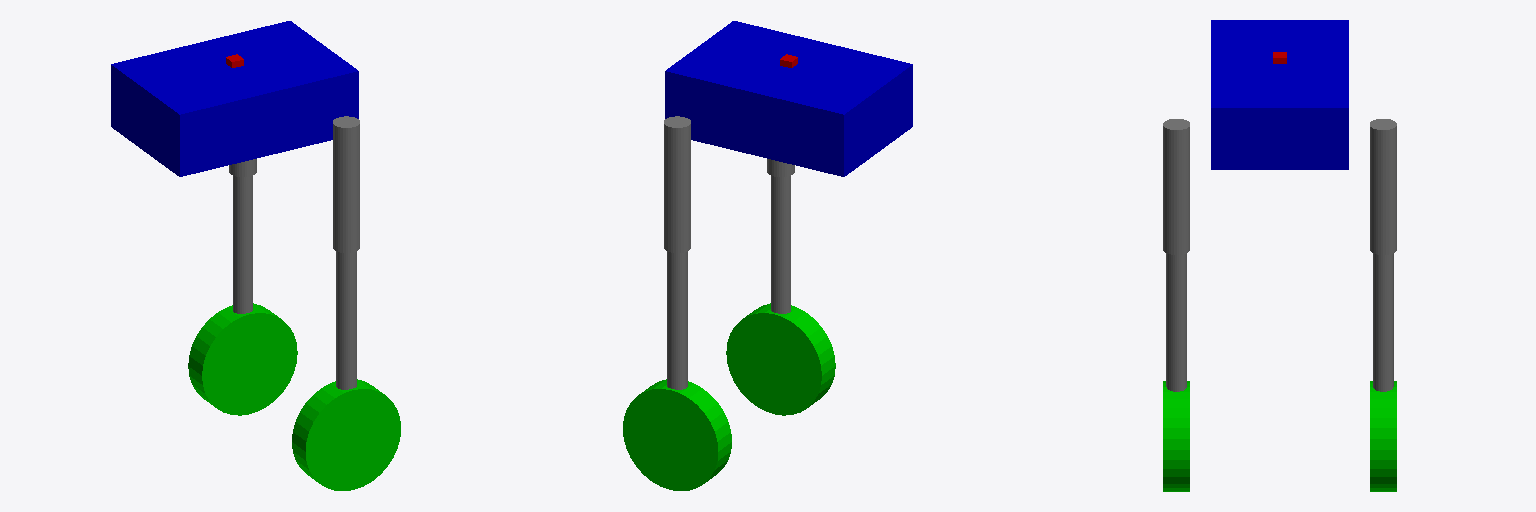
robot.urdf — wheel_legged_robot:
<?xml version="1.0"?>
<robot name="wheel_legged_robot">

  <!-- 材料定义 -->
  <material name="blue">
    <color rgba="0.0 0.0 0.8 1.0"/>
  </material>
  
  <material name="red">
    <color rgba="0.8 0.0 0.0 1.0"/>
  </material>
  
  <material name="green">
    <color rgba="0.0 0.8 0.0 1.0"/>
  </material>
  
  <material name="grey">
    <color rgba="0.5 0.5 0.5 1.0"/>
  </material>

  <!-- 基座链接 -->
  <link name="base_link">
    <visual>
      <origin xyz="0 0 0" rpy="0 0 0"/>
      <geometry>
        <box size="0.3 0.2 0.1"/>
      </geometry>
      <material name="blue"/>
    </visual>
    
    <collision>
      <origin xyz="0 0 0" rpy="0 0 0"/>
      <geometry>
        <box size="0.3 0.2 0.1"/>
      </geometry>
    </collision>
    
    <inertial>
      <origin xyz="0 0 0" rpy="0 0 0"/>
      <mass value="2.0"/>
      <inertia ixx="0.02" ixy="0.0" ixz="0.0" 
               iyy="0.05" iyz="0.0" 
               izz="0.06"/>
    </inertial>
  </link>

  <!-- IMU链接 -->
  <link name="imu_link">
    <visual>
      <origin xyz="0 0 0" rpy="0 0 0"/>
      <geometry>
        <box size="0.02 0.02 0.01"/>
      </geometry>
      <material name="red"/>
    </visual>
    
    <inertial>
      <origin xyz="0 0 0" rpy="0 0 0"/>
      <mass value="0.01"/>
      <inertia ixx="0.0001" ixy="0.0" ixz="0.0" 
               iyy="0.0001" iyz="0.0" 
               izz="0.0001"/>
    </inertial>
  </link>

  <!-- IMU关节 -->
  <joint name="imu_joint" type="fixed">
    <parent link="base_link"/>
    <child link="imu_link"/>
    <origin xyz="0 0 0.06" rpy="0 0 0"/>
  </joint>

  <!-- 左前腿第一段 -->
  <link name="lf0_link">
    <visual>
      <origin xyz="0 0 -0.1" rpy="0 0 0"/>
      <geometry>
        <cylinder radius="0.02" length="0.2"/>
      </geometry>
      <material name="grey"/>
    </visual>
    
    <collision>
      <origin xyz="0 0 -0.1" rpy="0 0 0"/>
      <geometry>
        <cylinder radius="0.02" length="0.2"/>
      </geometry>
    </collision>
    
    <inertial>
      <origin xyz="0 0 -0.1" rpy="0 0 0"/>
      <mass value="0.3"/>
      <inertia ixx="0.001" ixy="0.0" ixz="0.0" 
               iyy="0.001" iyz="0.0" 
               izz="0.0001"/>
    </inertial>
  </link>

  <!-- 左前腿第一关节 -->
  <joint name="lf0_Joint" type="revolute">
    <parent link="base_link"/>
    <child link="lf0_link"/>
    <origin xyz="0.1 0.15 0" rpy="0 0 0"/>
    <axis xyz="1 0 0"/>
    <limit lower="-0.3363" upper="1.3479" effort="30.0" velocity="10.0"/>
    <dynamics damping="0.1" friction="0.1"/>
  </joint>

  <!-- 左前腿第二段 -->
  <link name="lf1_link">
    <visual>
      <origin xyz="0 0 -0.15" rpy="0 0 0"/>
      <geometry>
        <cylinder radius="0.015" length="0.3"/>
      </geometry>
      <material name="grey"/>
    </visual>
    
    <collision>
      <origin xyz="0 0 -0.15" rpy="0 0 0"/>
      <geometry>
        <cylinder radius="0.015" length="0.3"/>
      </geometry>
    </collision>
    
    <inertial>
      <origin xyz="0 0 -0.15" rpy="0 0 0"/>
      <mass value="0.2"/>
      <inertia ixx="0.0015" ixy="0.0" ixz="0.0" 
               iyy="0.0015" iyz="0.0" 
               izz="0.0001"/>
    </inertial>
  </link>

  <!-- 左前腿第二关节 -->
  <joint name="lf1_Joint" type="revolute">
    <parent link="lf0_link"/>
    <child link="lf1_link"/>
    <origin xyz="0 0 -0.2" rpy="0 0 0"/>
    <axis xyz="1 0 0"/>
    <limit lower="-1.0" upper="1.25" effort="30.0" velocity="10.0"/>
    <dynamics damping="0.1" friction="0.1"/>
  </joint>

  <!-- 左轮 -->
  <link name="l_wheel_link">
    <visual>
      <origin xyz="0 0 0" rpy="1.5708 0 0"/>
      <geometry>
        <cylinder radius="0.08" length="0.04"/>
      </geometry>
      <material name="green"/>
    </visual>
    
    <collision>
      <origin xyz="0 0 0" rpy="1.5708 0 0"/>
      <geometry>
        <cylinder radius="0.08" length="0.04"/>
      </geometry>
    </collision>
    
    <inertial>
      <origin xyz="0 0 0" rpy="1.5708 0 0"/>
      <mass value="0.5"/>
      <inertia ixx="0.002" ixy="0.0" ixz="0.0" 
               iyy="0.002" iyz="0.0" 
               izz="0.0016"/>
    </inertial>
  </link>

  <!-- 左轮关节 -->
  <joint name="l_wheel_Joint" type="continuous">
    <parent link="lf1_link"/>
    <child link="l_wheel_link"/>
    <origin xyz="0 0 -0.3" rpy="0 0 0"/>
    <axis xyz="0 1 0"/>
    <dynamics damping="0.1" friction="0.1"/>
  </joint>

  <!-- 右前腿第一段 -->
  <link name="rf0_link">
    <visual>
      <origin xyz="0 0 -0.1" rpy="0 0 0"/>
      <geometry>
        <cylinder radius="0.02" length="0.2"/>
      </geometry>
      <material name="grey"/>
    </visual>
    
    <collision>
      <origin xyz="0 0 -0.1" rpy="0 0 0"/>
      <geometry>
        <cylinder radius="0.02" length="0.2"/>
      </geometry>
    </collision>
    
    <inertial>
      <origin xyz="0 0 -0.1" rpy="0 0 0"/>
      <mass value="0.3"/>
      <inertia ixx="0.001" ixy="0.0" ixz="0.0" 
               iyy="0.001" iyz="0.0" 
               izz="0.0001"/>
    </inertial>
  </link>

  <!-- 右前腿第一关节 -->
  <joint name="rf0_Joint" type="revolute">
    <parent link="base_link"/>
    <child link="rf0_link"/>
    <origin xyz="0.1 -0.15 0" rpy="0 0 0"/>
    <axis xyz="1 0 0"/>
    <limit lower="-1.3479" upper="0.3363" effort="30.0" velocity="10.0"/>
    <dynamics damping="0.1" friction="0.1"/>
  </joint>

  <!-- 右前腿第二段 -->
  <link name="rf1_link">
    <visual>
      <origin xyz="0 0 -0.15" rpy="0 0 0"/>
      <geometry>
        <cylinder radius="0.015" length="0.3"/>
      </geometry>
      <material name="grey"/>
    </visual>
    
    <collision>
      <origin xyz="0 0 -0.15" rpy="0 0 0"/>
      <geometry>
        <cylinder radius="0.015" length="0.3"/>
      </geometry>
    </collision>
    
    <inertial>
      <origin xyz="0 0 -0.15" rpy="0 0 0"/>
      <mass value="0.2"/>
      <inertia ixx="0.0015" ixy="0.0" ixz="0.0" 
               iyy="0.0015" iyz="0.0" 
               izz="0.0001"/>
    </inertial>
  </link>

  <!-- 右前腿第二关节 -->
  <joint name="rf1_Joint" type="revolute">
    <parent link="rf0_link"/>
    <child link="rf1_link"/>
    <origin xyz="0 0 -0.2" rpy="0 0 0"/>
    <axis xyz="1 0 0"/>
    <limit lower="-1.25" upper="1.0" effort="30.0" velocity="10.0"/>
    <dynamics damping="0.1" friction="0.1"/>
  </joint>

  <!-- 右轮 -->
  <link name="r_wheel_link">
    <visual>
      <origin xyz="0 0 0" rpy="1.5708 0 0"/>
      <geometry>
        <cylinder radius="0.08" length="0.04"/>
      </geometry>
      <material name="green"/>
    </visual>
    
    <collision>
      <origin xyz="0 0 0" rpy="1.5708 0 0"/>
      <geometry>
        <cylinder radius="0.08" length="0.04"/>
      </geometry>
    </collision>
    
    <inertial>
      <origin xyz="0 0 0" rpy="1.5708 0 0"/>
      <mass value="0.5"/>
      <inertia ixx="0.002" ixy="0.0" ixz="0.0" 
               iyy="0.002" iyz="0.0" 
               izz="0.0016"/>
    </inertial>
  </link>

  <!-- 右轮关节 -->
  <joint name="r_wheel_Joint" type="continuous">
    <parent link="rf1_link"/>
    <child link="r_wheel_link"/>
    <origin xyz="0 0 -0.3" rpy="0 0 0"/>
    <axis xyz="0 1 0"/>
    <dynamics damping="0.1" friction="0.1"/>
  </joint>

  <!-- Gazebo插件配置 -->
  <gazebo>
    <plugin name="gazebo_ros_control" filename="libgazebo_ros_control.so">
      <robotNamespace>/</robotNamespace>
    </plugin>
  </gazebo>

  <!-- IMU传感器插件 -->
  <gazebo reference="imu_link">
    <sensor name="imu_sensor" type="imu">
      <plugin filename="libgazebo_ros_imu_sensor.so" name="imu_plugin">
        <ros>
          <namespace>/</namespace>
          <remapping>~/out:=imu/data</remapping>
        </ros>
        <initial_orientation_as_reference>false</initial_orientation_as_reference>
      </plugin>
      <always_on>true</always_on>
      <update_rate>100</update_rate>
      <visualize>true</visualize>
      <imu>
        <angular_velocity>
          <x>
            <noise type="gaussian">
              <mean>0.0</mean>
              <stddev>2e-4</stddev>
              <bias_mean>0.0000075</bias_mean>
              <bias_stddev>0.0000008</bias_stddev>
            </noise>
          </x>
          <y>
            <noise type="gaussian">
              <mean>0.0</mean>
              <stddev>2e-4</stddev>
              <bias_mean>0.0000075</bias_mean>
              <bias_stddev>0.0000008</bias_stddev>
            </noise>
          </y>
          <z>
            <noise type="gaussian">
              <mean>0.0</mean>
              <stddev>2e-4</stddev>
              <bias_mean>0.0000075</bias_mean>
              <bias_stddev>0.0000008</bias_stddev>
            </noise>
          </z>
        </angular_velocity>
        <linear_acceleration>
          <x>
            <noise type="gaussian">
              <mean>0.0</mean>
              <stddev>1.7e-2</stddev>
              <bias_mean>0.1</bias_mean>
              <bias_stddev>0.001</bias_stddev>
            </noise>
          </x>
          <y>
            <noise type="gaussian">
              <mean>0.0</mean>
              <stddev>1.7e-2</stddev>
              <bias_mean>0.1</bias_mean>
              <bias_stddev>0.001</bias_stddev>
            </noise>
          </y>
          <z>
            <noise type="gaussian">
              <mean>0.0</mean>
              <stddev>1.7e-2</stddev>
              <bias_mean>0.1</bias_mean>
              <bias_stddev>0.001</bias_stddev>
            </noise>
          </z>
        </linear_acceleration>
      </imu>
    </sensor>
  </gazebo>

  <!-- 轮子摩擦参数 -->
  <gazebo reference="l_wheel_link">
    <mu1>1.0</mu1>
    <mu2>1.0</mu2>
    <kp>1000000.0</kp>
    <kd>100.0</kd>
    <minDepth>0.001</minDepth>
    <maxVel>1.0</maxVel>
    <material>Gazebo/Green</material>
  </gazebo>

  <gazebo reference="r_wheel_link">
    <mu1>1.0</mu1>
    <mu2>1.0</mu2>
    <kp>1000000.0</kp>
    <kd>100.0</kd>
    <minDepth>0.001</minDepth>
    <maxVel>1.0</maxVel>
    <material>Gazebo/Green</material>
  </gazebo>

  <!-- 其他链接的材料 -->
  <gazebo reference="base_link">
    <material>Gazebo/Blue</material>
  </gazebo>

  <gazebo reference="lf0_link">
    <material>Gazebo/Grey</material>
  </gazebo>

  <gazebo reference="lf1_link">
    <material>Gazebo/Grey</material>
  </gazebo>

  <gazebo reference="rf0_link">
    <material>Gazebo/Grey</material>
  </gazebo>

  <gazebo reference="rf1_link">
    <material>Gazebo/Grey</material>
  </gazebo>

  <gazebo reference="imu_link">
    <material>Gazebo/Red</material>
  </gazebo>

</robot>

--- What the picture shows (computed from the rendered views, not written in the file) ---
3 views of the same robot in one strip: view 1: azimuth 30°, elevation 25°; view 2: azimuth 150°, elevation 25°; view 3: azimuth 270°, elevation 25° (orthographic).
Model wheel_legged_robot with 8 links and 7 joints (4 revolute, 2 continuous, 1 fixed), rooted at base_link, posed all joints at 0.
Links seen in each view (by area): view 1: base_link, l_wheel_link, r_wheel_link, rf0_link, rf1_link, lf1_link; view 2: base_link, r_wheel_link, l_wheel_link, lf0_link, lf1_link, rf1_link; view 3: base_link, lf0_link, rf0_link, lf1_link, rf1_link, l_wheel_link, r_wheel_link.
Boxes of the visible links, box(x1,y1,x2,y2) form: base_link: box(111, 21, 358, 176); l_wheel_link: box(188, 303, 297, 415); r_wheel_link: box(292, 379, 400, 490); rf0_link: box(333, 116, 359, 252); rf1_link: box(336, 251, 356, 389); lf1_link: box(233, 176, 252, 313); base_link: box(665, 21, 912, 176); r_wheel_link: box(726, 303, 835, 415); l_wheel_link: box(623, 379, 731, 490); lf0_link: box(664, 116, 690, 252); lf1_link: box(667, 251, 687, 389); rf1_link: box(771, 176, 790, 313); base_link: box(1211, 20, 1348, 169); lf0_link: box(1370, 119, 1396, 254); rf0_link: box(1163, 119, 1189, 254); lf1_link: box(1373, 253, 1393, 391); rf1_link: box(1166, 253, 1186, 391); l_wheel_link: box(1370, 381, 1396, 491); r_wheel_link: box(1163, 381, 1189, 491).
Bounding box of the posed robot: 0.33 × 0.34 × 0.645 m (x, y, z).
Geometry: primitives only (box / cylinder / sphere), no mesh files.
